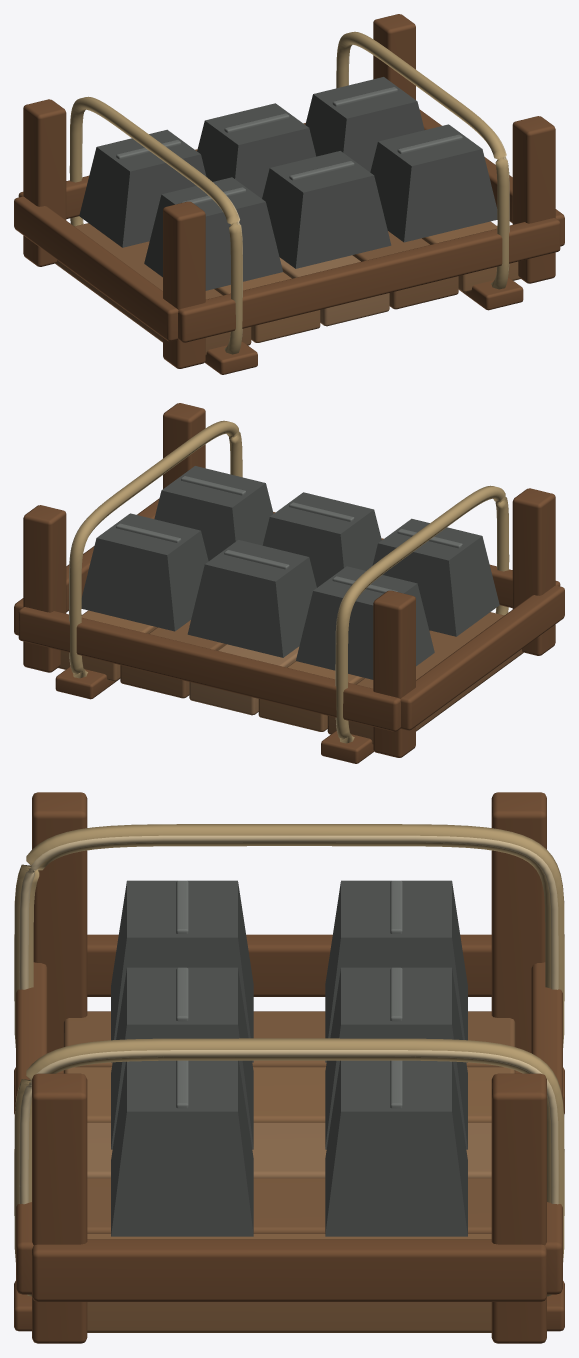
Rendered from iron.glb.
3 views of the same model, one above another, from view 1: azimuth 30°, elevation 25°; view 2: azimuth 150°, elevation 25°; view 3: azimuth 270°, elevation 25° (orthographic). The views are drawn at different scales.
Parts seen in each view (by area): view 1: Cargo_iron; view 2: Cargo_iron; view 3: Cargo_iron.
Boxes of the visible parts, x1,y1,x2,y2 form: Cargo_iron: (14,14,564,374); Cargo_iron: (14,403,564,763); Cargo_iron: (14,792,564,1343).
Size of the model in its own units: 0.955 by 0.3942 by 0.695.
